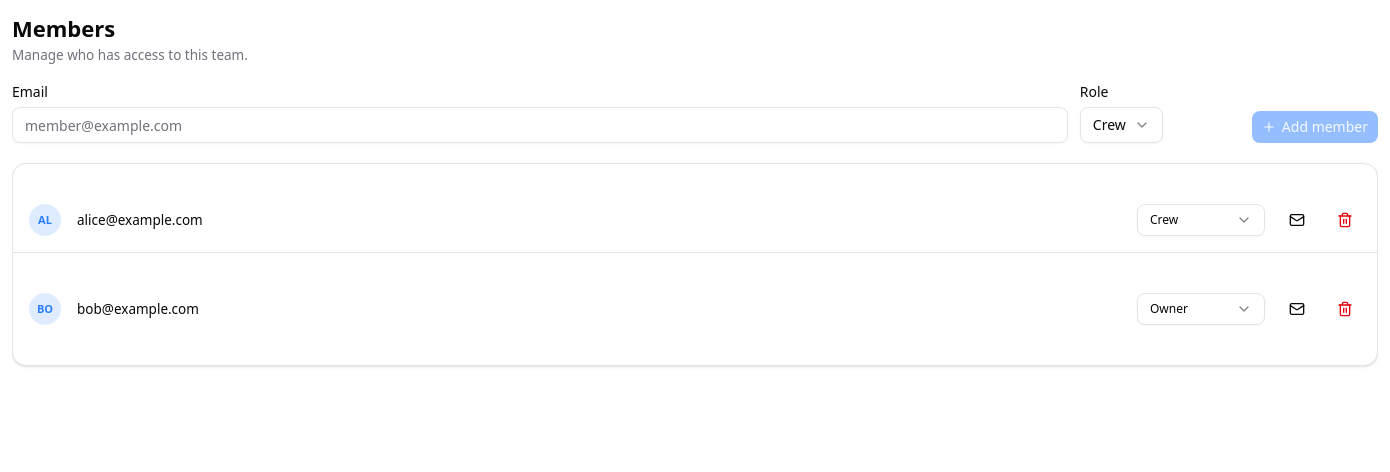
Test case: MembersPage add member › shows the backend's reason when the member already exists
Type "alice@example.com" into the field with placeholder "member@example.com".
click(540, 125); type("alice@example.com")  # box x1=12 y1=107 x2=1068 y2=143
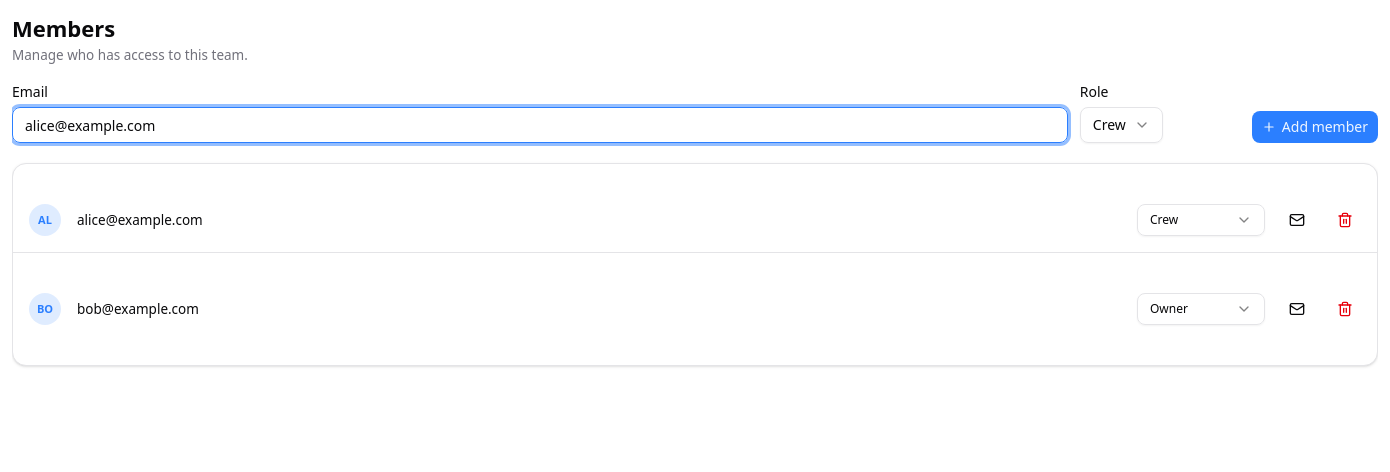
Click the button "Add member".
click(1315, 127)  # box x1=1252 y1=111 x2=1378 y2=143
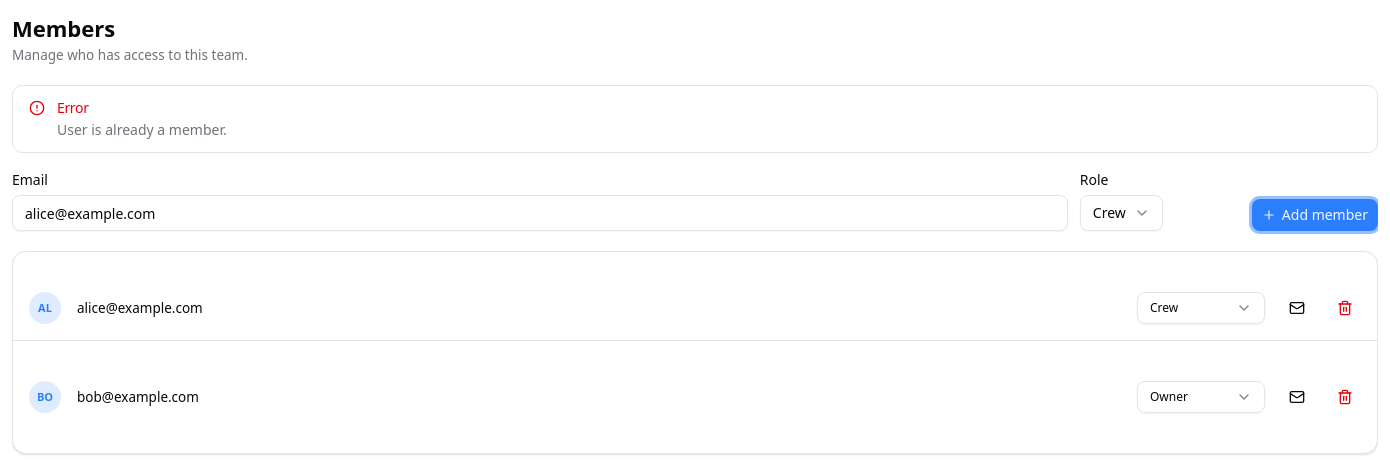
Expected: the text "User is already a member." is shown, x1=57 y1=120 x2=227 y2=139
